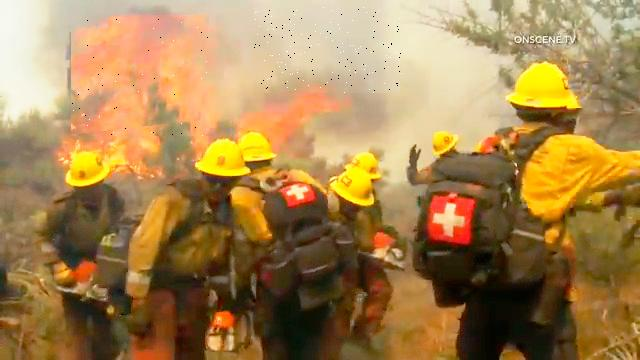fire: (72, 15, 214, 136)
smoke: (254, 7, 403, 93)
